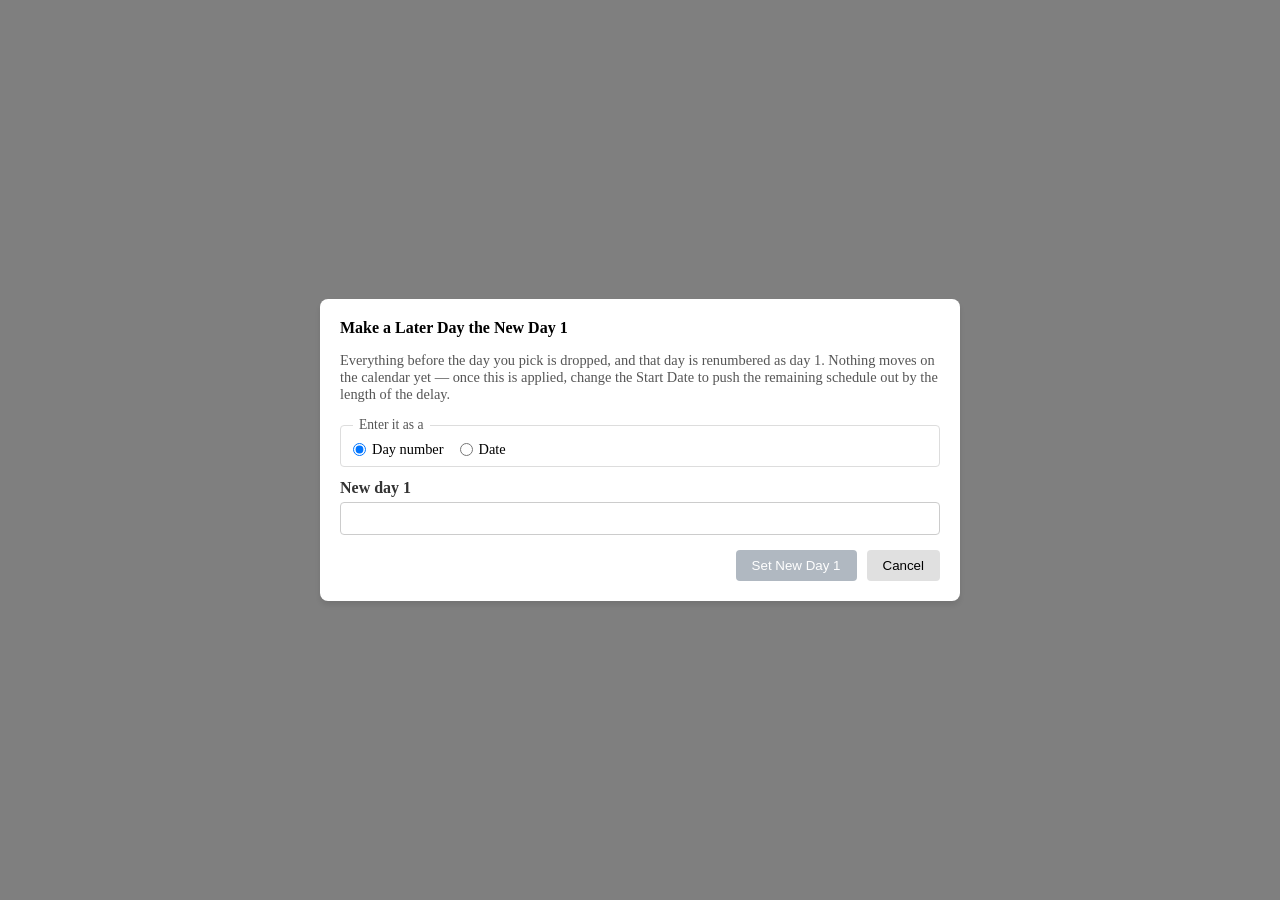
RebaseStartDateModal › rejects a date past the last scheduled day
The image size is (1280, 900).
Click the radio button labelled "Date" at (466, 450), box [460, 443, 472, 456]
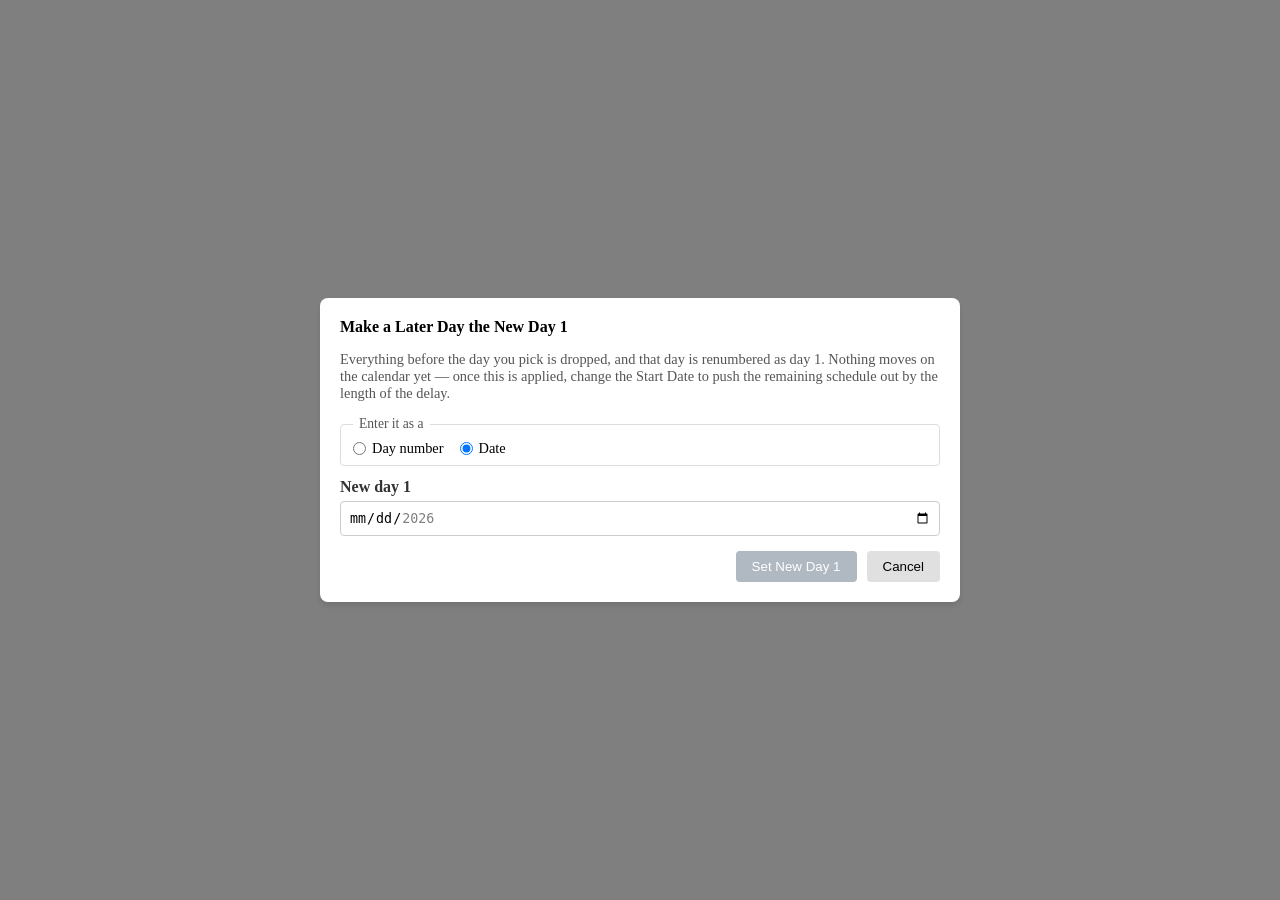
Type "2026-12-01" into the date field labelled "New day 1" at (640, 519), box [340, 501, 940, 536]
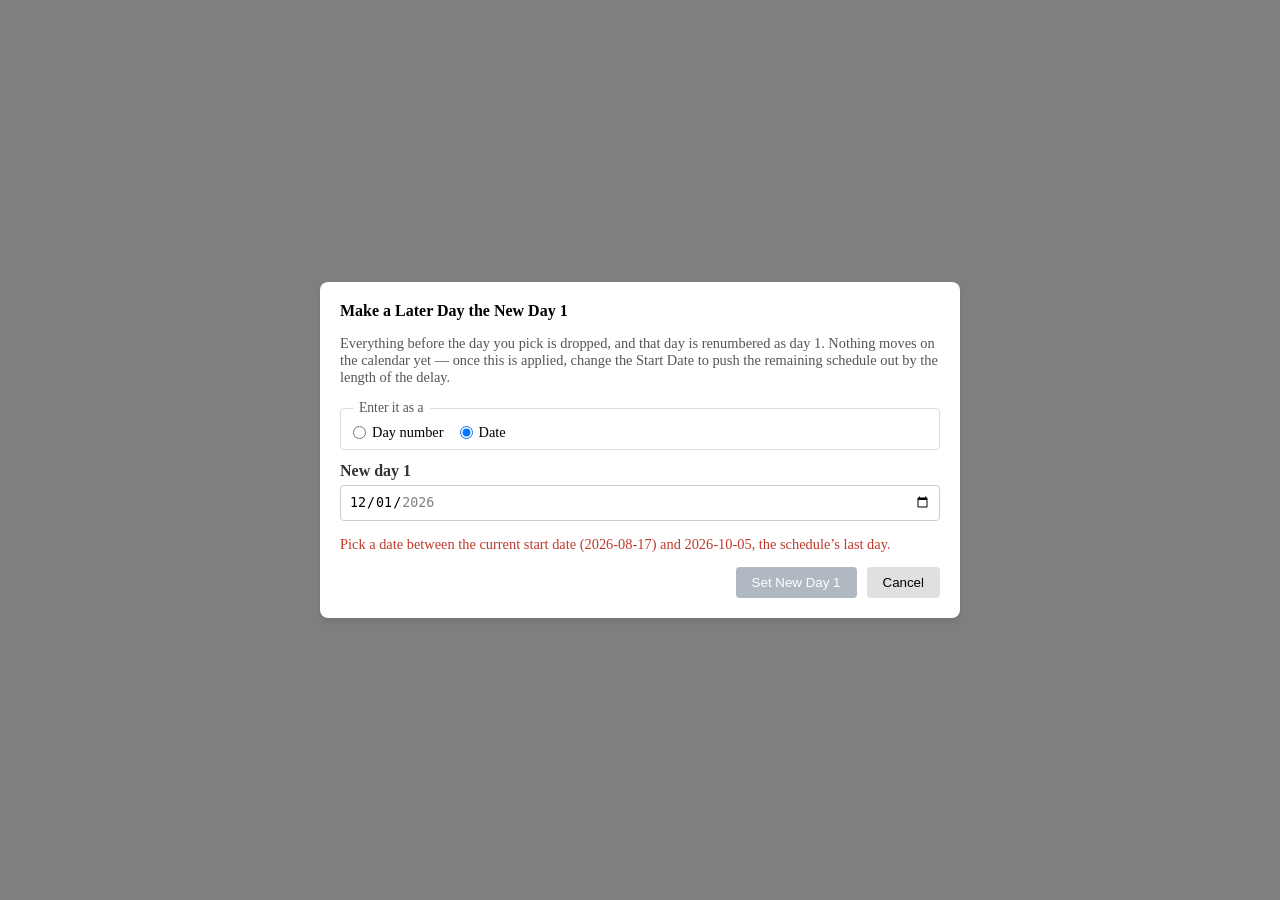
Check: the button "Set New Day 1" is disabled, box [736, 567, 856, 598]
Check: the text "Pick a date between" is shown, box [340, 536, 584, 552]
